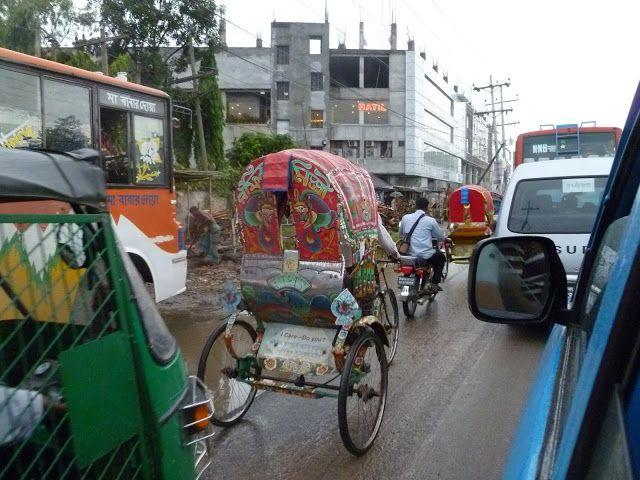Rickshaw: (198, 149, 397, 454), (448, 185, 493, 262)
